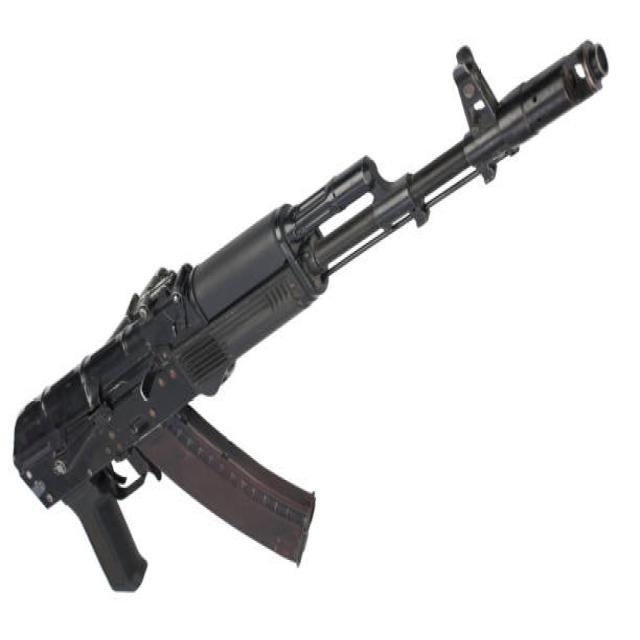rifle: (4, 24, 614, 617)
